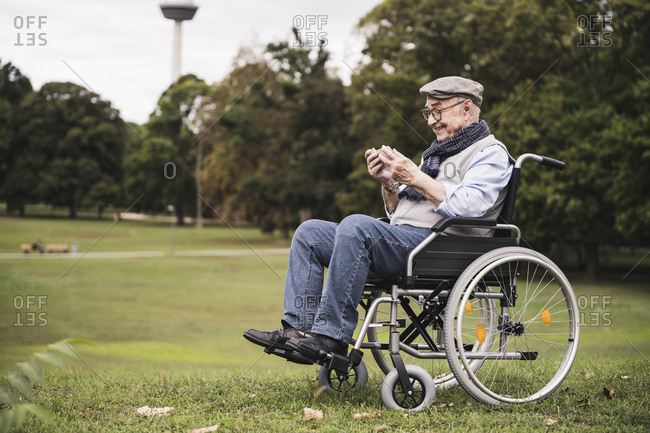wheelchair: (240, 74, 581, 412)
